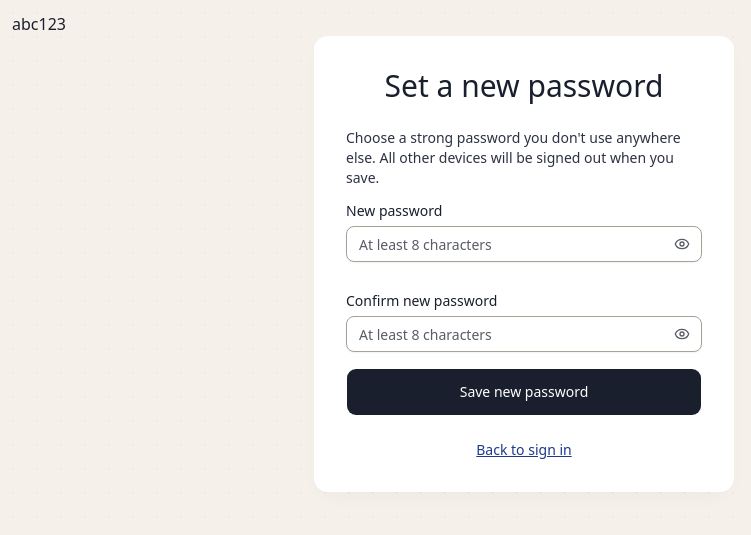
ResetPasswordPage (Story 1-9b AC5 / AC6) › renders invalid state on 404
This screenshot has width=751, height=535.
In the password field with test id "reset-new-password": (524, 244) left=346, top=226, right=702, bottom=262, type "newStrong123"
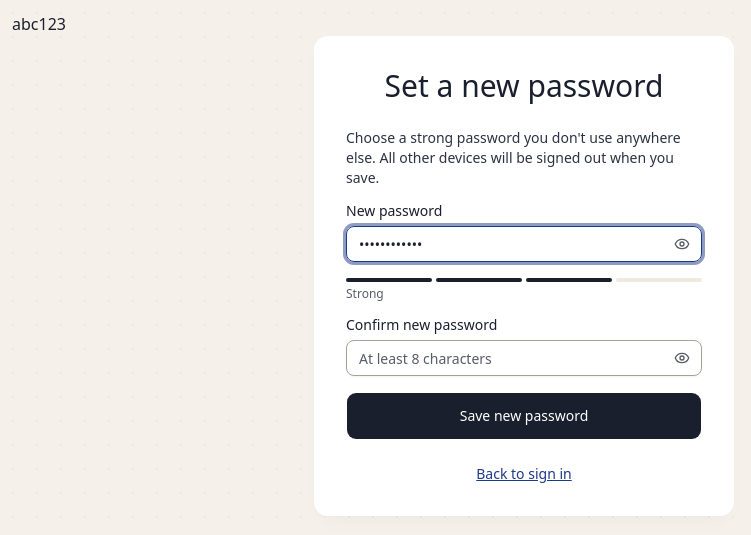
In the password field with test id "reset-confirm-password": (524, 358) left=346, top=340, right=702, bottom=376, type "newStrong123"
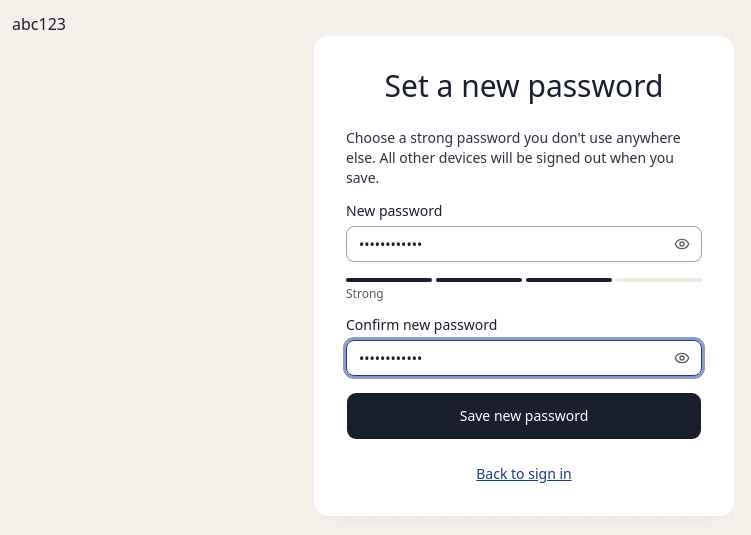
Click the button with test id "reset-submit": (524, 416) left=346, top=392, right=702, bottom=440
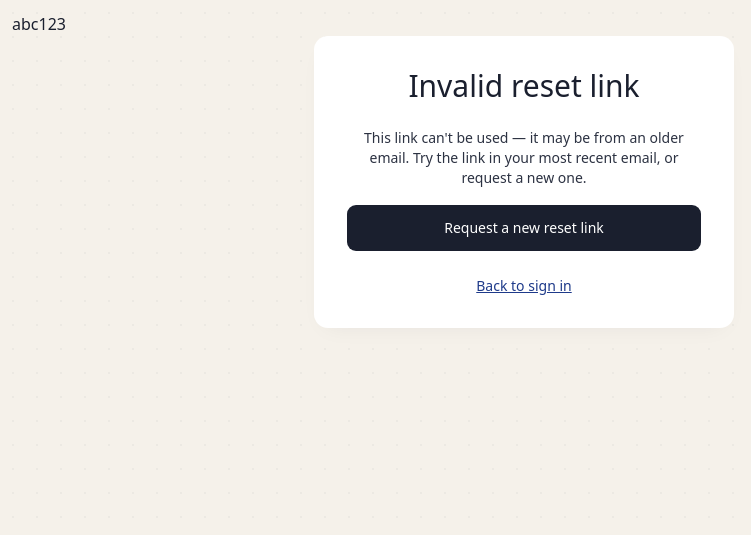
Check: the element with test id "reset-password-invalid" is shown, box left=346, top=128, right=702, bottom=252
Check: the form with test id "reset-password-form" is gone
